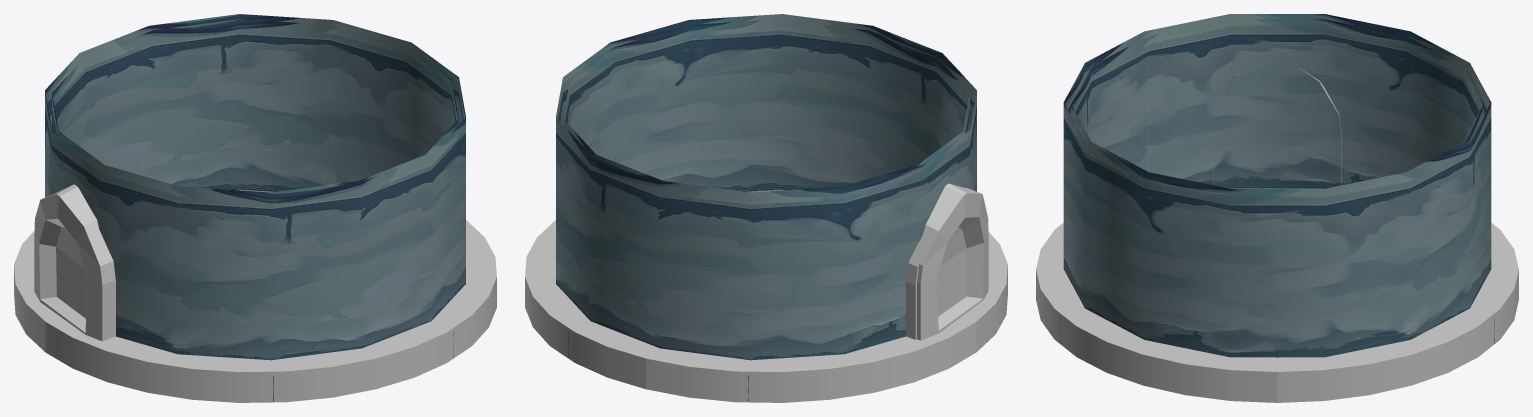
Rendered from SM_CT_HouseBases.FBX.
3 renders of one model, left to right at view 1: azimuth 30°, elevation 25°; view 2: azimuth 150°, elevation 25°; view 3: azimuth 270°, elevation 25°, orthographic.
Visible parts, largest first — view 1: SM_CT_HouseBase2, SM_CT_HouseBase1; view 2: SM_CT_HouseBase2, SM_CT_HouseBase1; view 3: SM_CT_HouseBase2, SM_CT_HouseBase1.
Boxes of the visible parts, box(x1,y1,x2,y2) form: SM_CT_HouseBase2: box(14, 14, 496, 402); SM_CT_HouseBase1: box(52, 19, 458, 401); SM_CT_HouseBase2: box(525, 14, 1007, 402); SM_CT_HouseBase1: box(563, 19, 969, 401); SM_CT_HouseBase2: box(1036, 14, 1518, 402); SM_CT_HouseBase1: box(1060, 19, 1494, 343).
Size of the model in its own units: 497 by 224 by 494.
